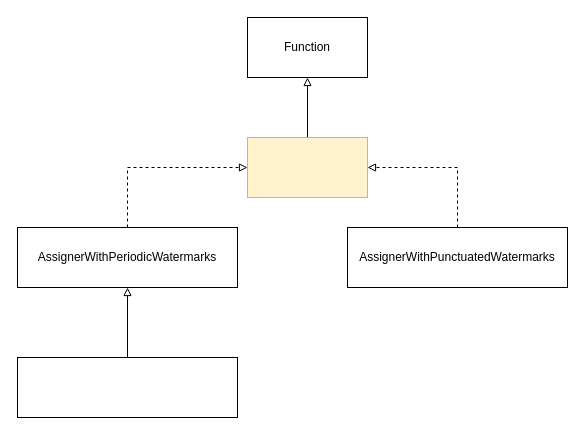
This 585x435 diagram has some shape labels left out. The box of each missing label's shape, as (x1, y1, x2, y2) in pixels:
AscendingTimestampExtractor: (16, 356, 238, 418)
TimestampAssigner: (246, 136, 368, 198)
